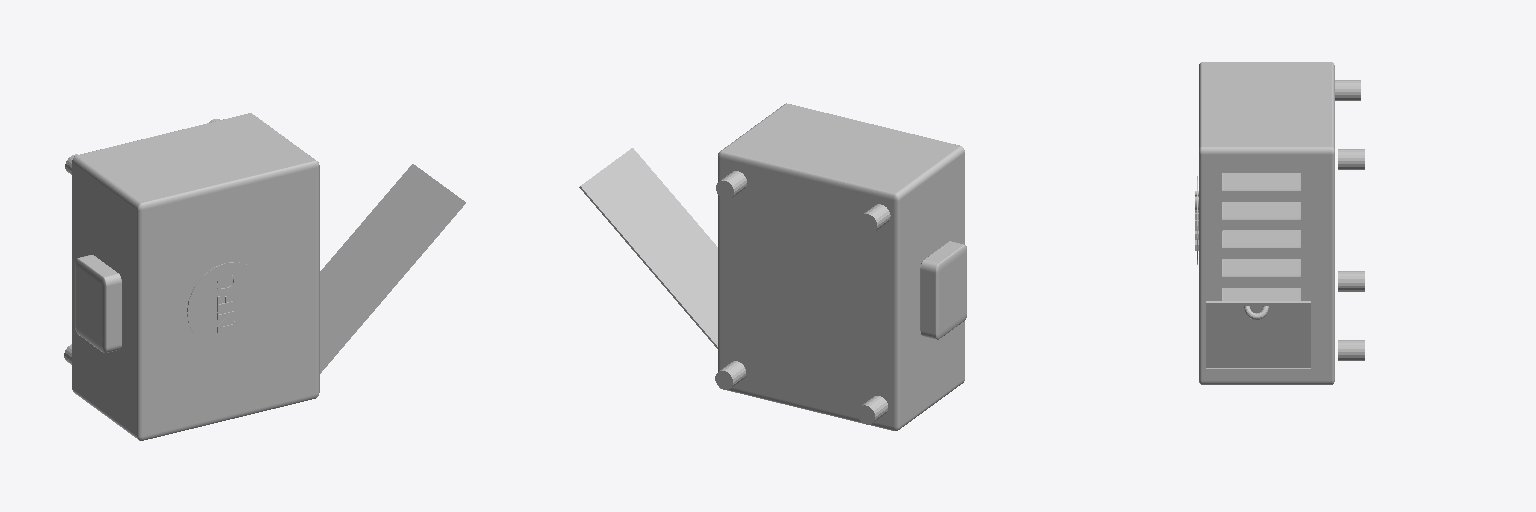
File: Holder.obj
3 renders of one model, left to right at view 1: azimuth 30°, elevation 25°; view 2: azimuth 150°, elevation 25°; view 3: azimuth 270°, elevation 25°, orthographic.
Visible parts, largest first — view 1: obj_0; view 2: obj_0; view 3: obj_0.
Boxes of the visible parts, x1,y1,x2,y2 form: obj_0: [64, 113, 465, 440]; obj_0: [579, 103, 966, 430]; obj_0: [1195, 62, 1364, 384].
Bounding box in the file's own units: 387 × 250 × 161.